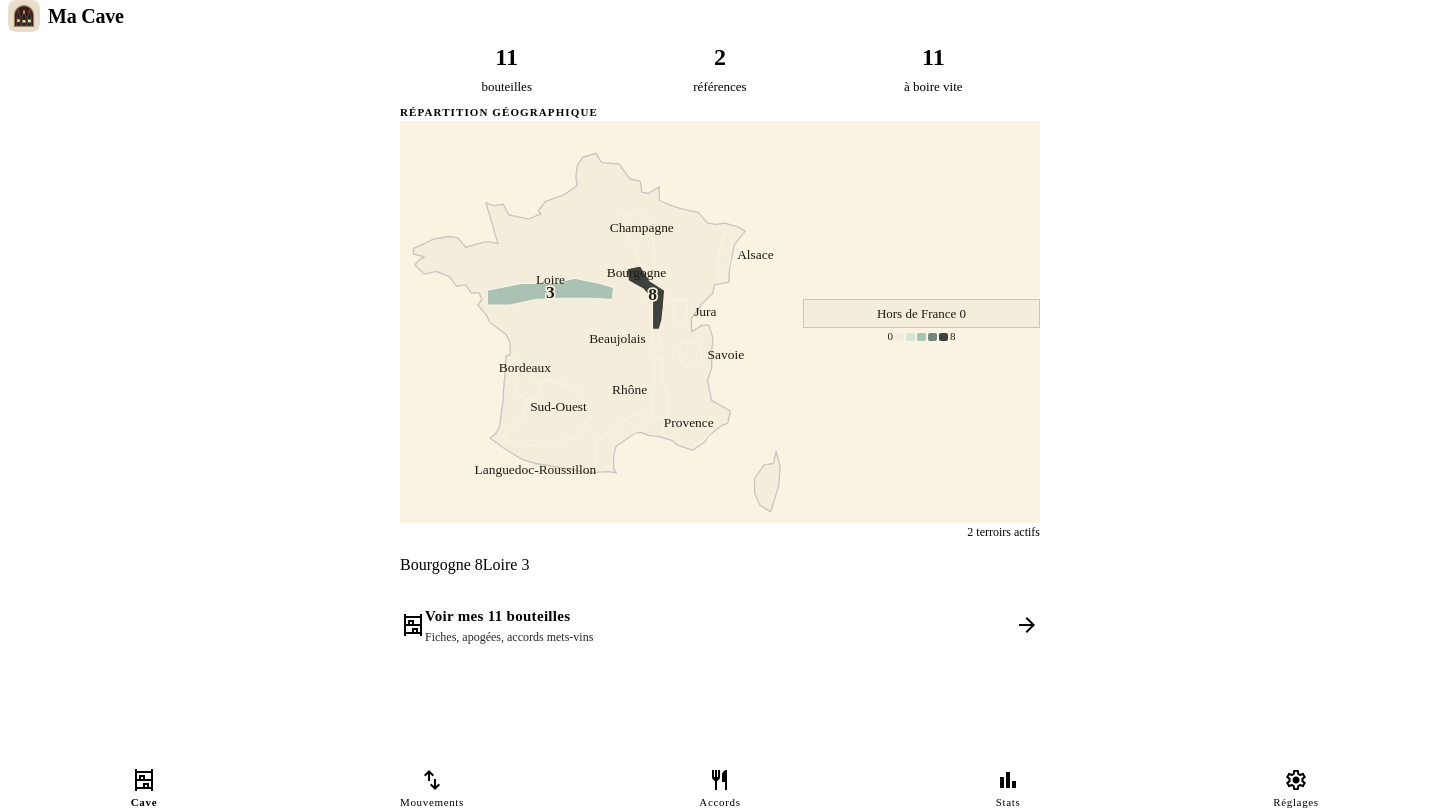
Test: pastilles de régions : la plus fournie d’abord, toucher une pastille ouvre le volet
Click the button "Loire 3" at (506, 566), box x1=483 y1=542 x2=530 y2=590
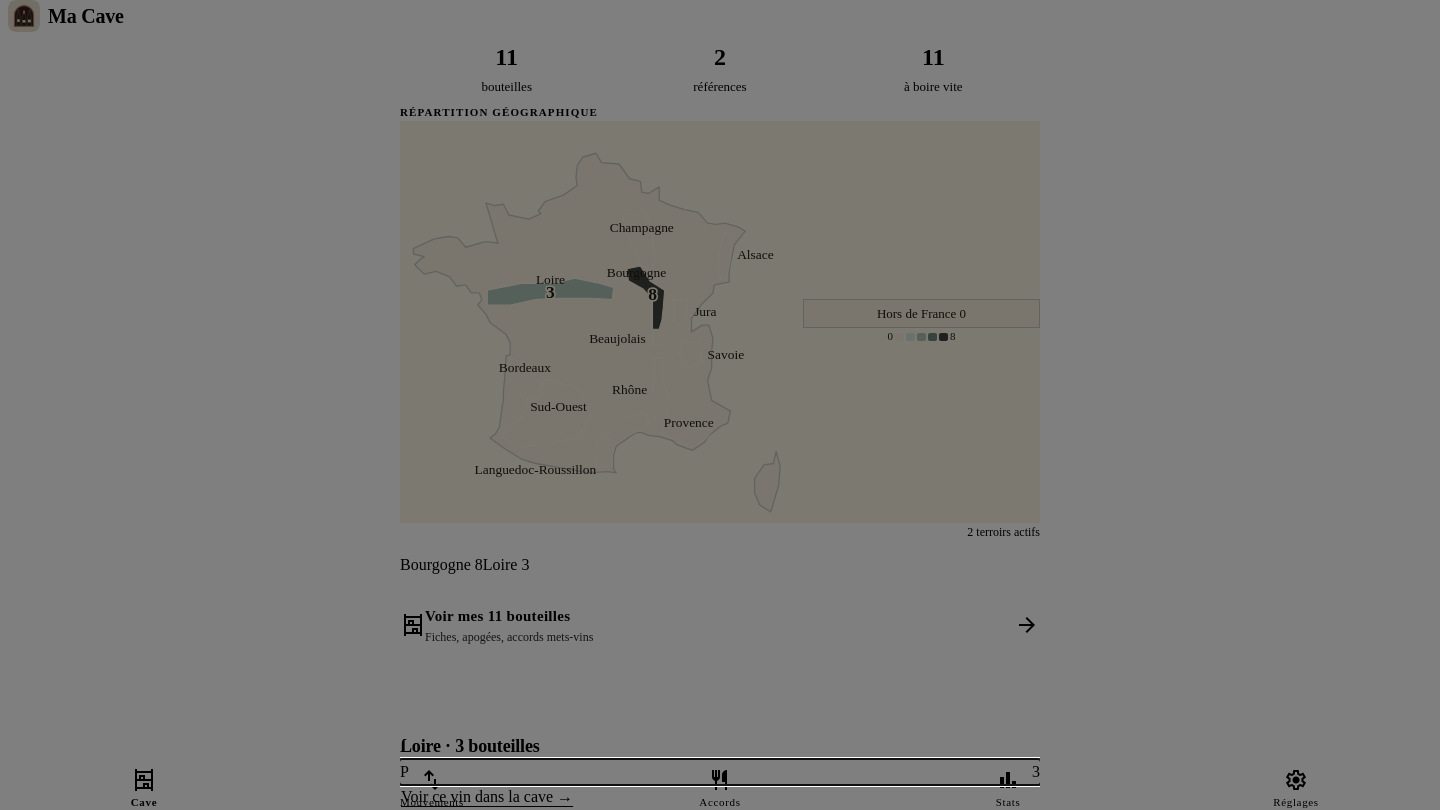
Check: the dialog "Loire · 3 bouteilles" is shown, box x1=400 y1=733 x2=1040 y2=809
